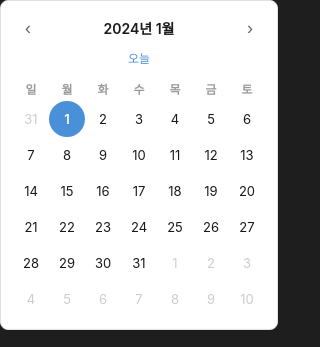
Scenario: Calendar › navigation › navigates to today when today button clicked
Click the button "오늘" at [139, 58], box top-left (120, 47), bottom-right (158, 68)
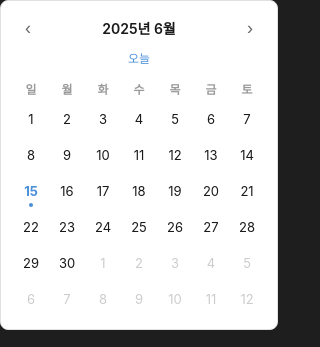
Expected: the text "2025년 6월" is shown, top-left (102, 18), bottom-right (176, 38)
